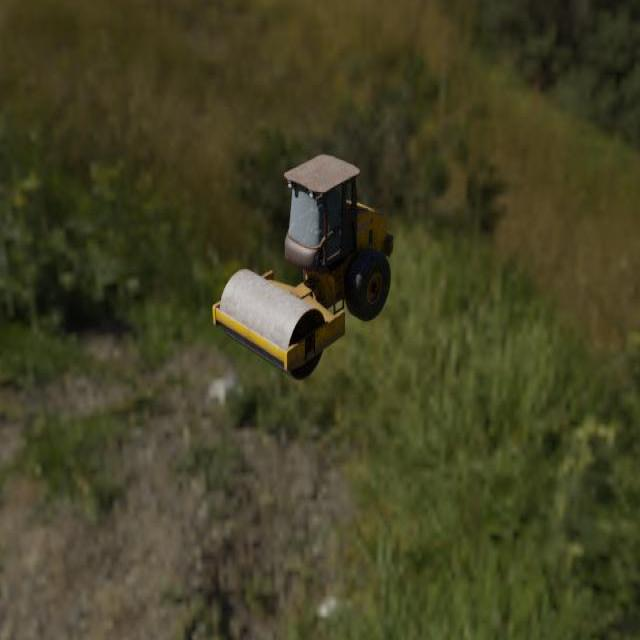Roller: (212, 154, 394, 382)
